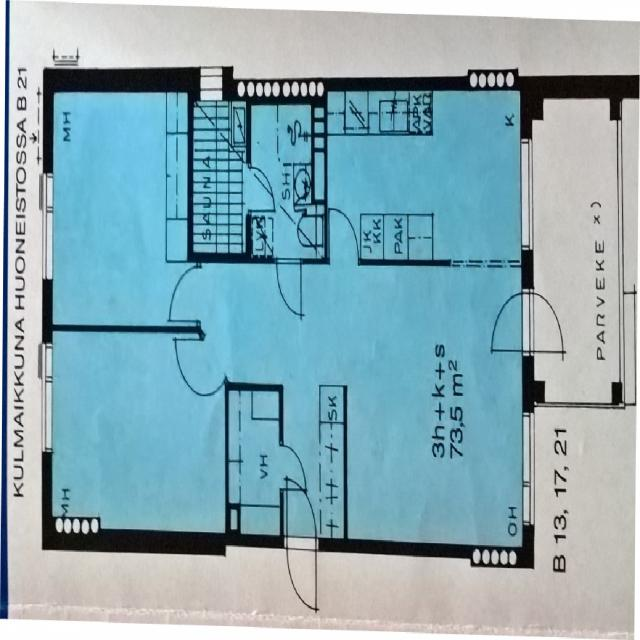door: (182, 336, 226, 422), (490, 292, 535, 352), (522, 292, 566, 352), (287, 480, 316, 550), (287, 537, 316, 607), (329, 201, 358, 263), (168, 267, 200, 321), (246, 166, 275, 212), (276, 257, 301, 310), (280, 446, 306, 490)
